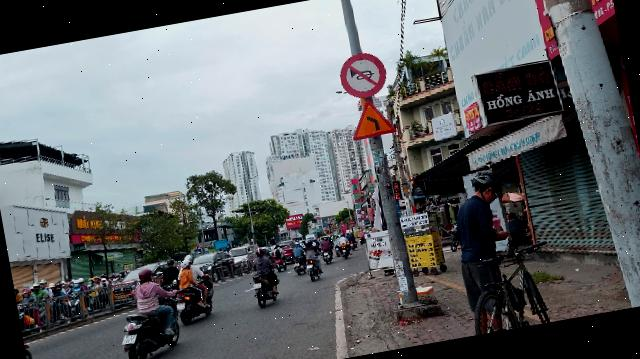cam-bop-coi: (336, 47, 390, 102)
cho-ngoat-nguy-hiem-ben-trai: (347, 93, 398, 140)
